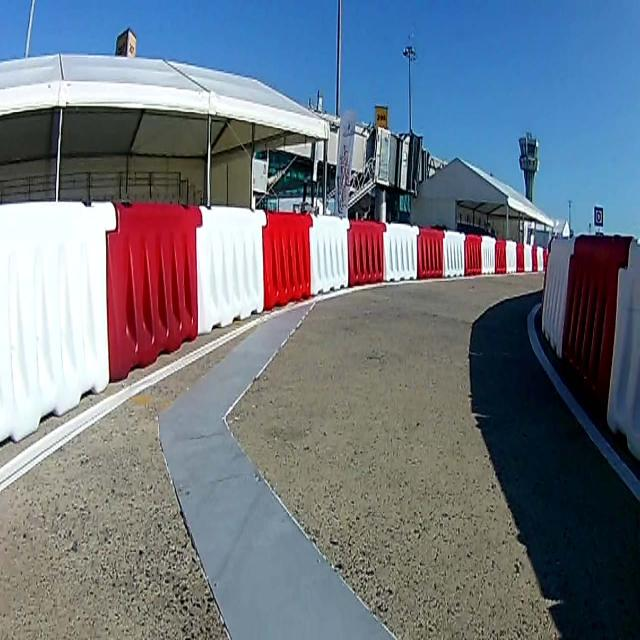durak: (594, 207, 604, 224)
